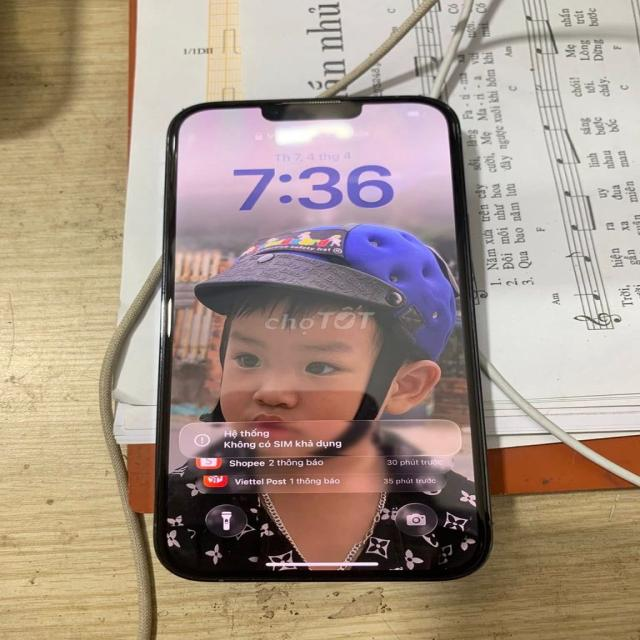gen_12_13: (150, 93, 492, 586)
